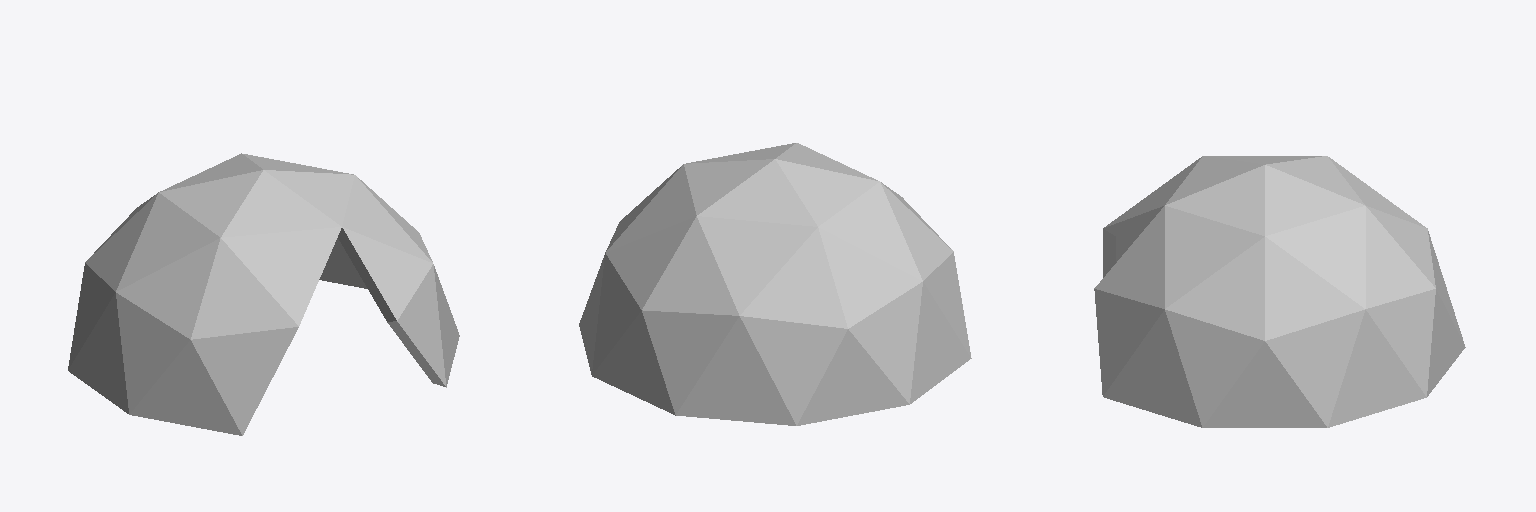
The model's file is Hut.obj.
3 views of the same model, side by side, from view 1: azimuth 30°, elevation 25°; view 2: azimuth 150°, elevation 25°; view 3: azimuth 270°, elevation 25° (orthographic).
Visible parts, largest first — view 1: Icosphere; view 2: Icosphere; view 3: Icosphere.
Boxes of the visible parts, x1,y1,x2,y2 form: Icosphere: [68, 153, 459, 435]; Icosphere: [579, 143, 971, 425]; Icosphere: [1094, 156, 1465, 427].
Bounding box in the file's own units: 3.97 × 2.1 × 3.87.